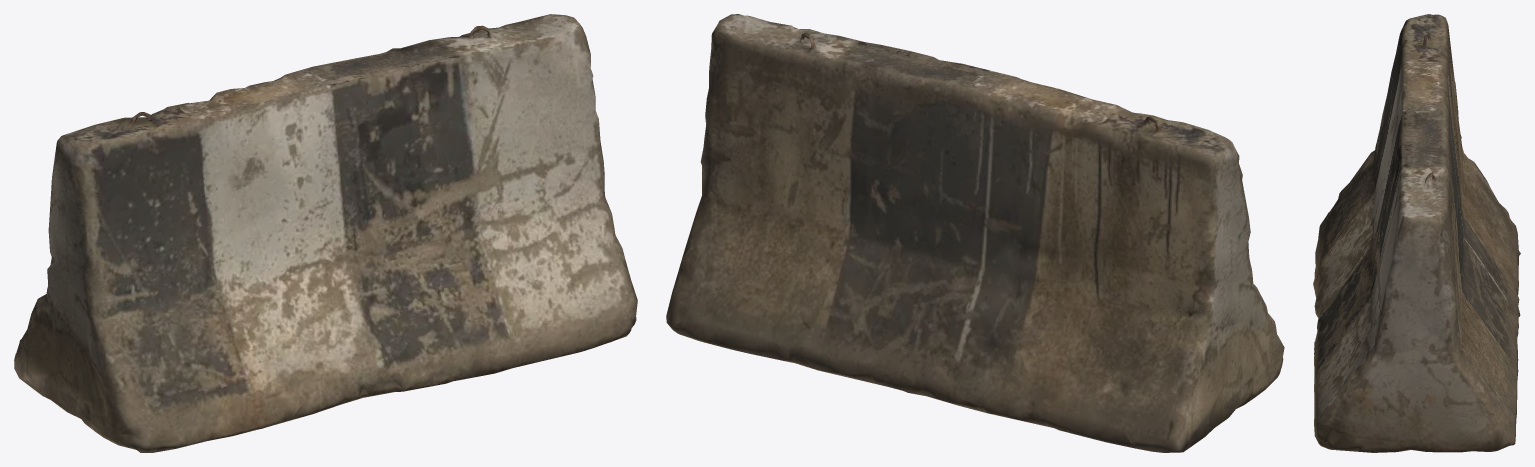
File: barrier.glb
3 renders of one model, left to right at view 1: azimuth 30°, elevation 25°; view 2: azimuth 150°, elevation 25°; view 3: azimuth 270°, elevation 25°, orthographic. The views are drawn at different scales.
Visible parts, largest first — view 1: concrete_road_barrier; view 2: concrete_road_barrier; view 3: concrete_road_barrier.
Boxes of the visible parts, bbox=[...] form: concrete_road_barrier: bbox=[14, 14, 637, 452]; concrete_road_barrier: bbox=[666, 14, 1284, 452]; concrete_road_barrier: bbox=[1313, 14, 1520, 452].
Size of the model in its own units: 1.54 by 0.8299 by 0.6387.
1 material, 1 textured.
